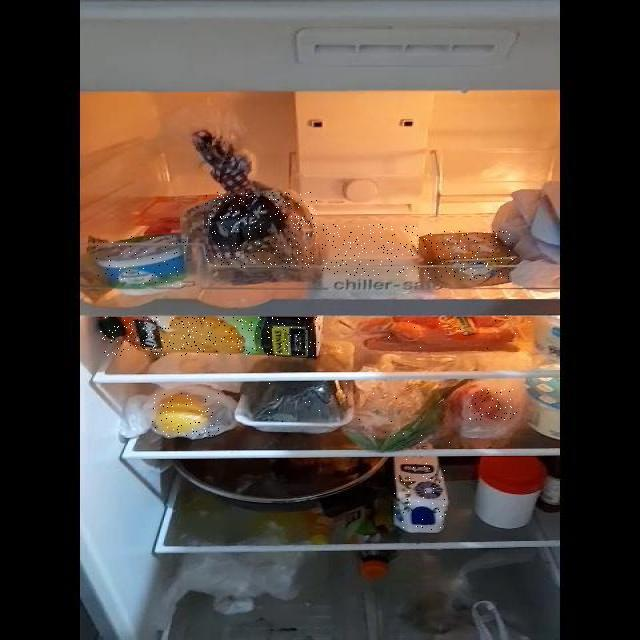bread: (204, 192, 317, 268)
broccoli: (240, 381, 348, 422)
butter: (423, 231, 513, 280)
carrot: (360, 315, 516, 349)
cheese: (322, 224, 420, 276)
green chilies: (350, 390, 452, 449)
juice: (100, 317, 319, 356)
lemon: (152, 393, 219, 437)
milk: (394, 459, 446, 531)
tomato: (470, 388, 518, 421)
yoghurt: (96, 236, 186, 286)
